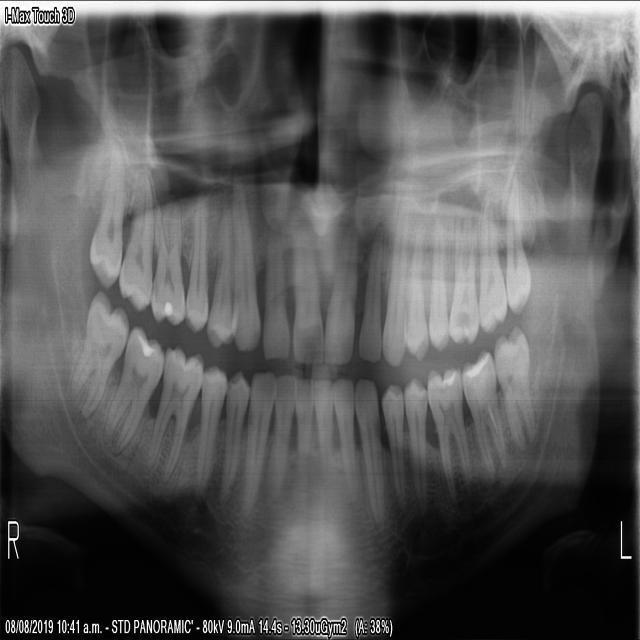LCD: (351, 372, 384, 532)
LCU: (378, 180, 410, 370)
LID: (329, 372, 357, 521), (309, 373, 333, 519)
LIU: (321, 200, 359, 366), (355, 210, 384, 366)
LMD: (459, 342, 507, 488), (424, 363, 470, 514), (491, 318, 534, 458)
LMU: (446, 201, 479, 347), (477, 194, 507, 336), (503, 167, 530, 318)
LPMD: (401, 374, 427, 522), (378, 381, 405, 519)
LPMU: (401, 204, 428, 366), (426, 198, 448, 353)
RCD: (238, 368, 275, 524)
RCU: (228, 171, 260, 353)
RID: (272, 368, 296, 510), (292, 373, 312, 513)
RIU: (290, 194, 322, 367), (260, 181, 289, 362)
RMD: (143, 339, 204, 486), (101, 322, 163, 454), (67, 286, 128, 419)
RMU: (116, 166, 153, 313), (87, 154, 126, 292), (148, 191, 185, 326)
RPMD: (213, 369, 250, 506), (192, 361, 227, 504)
RPMU: (203, 193, 238, 351), (182, 189, 208, 335)
